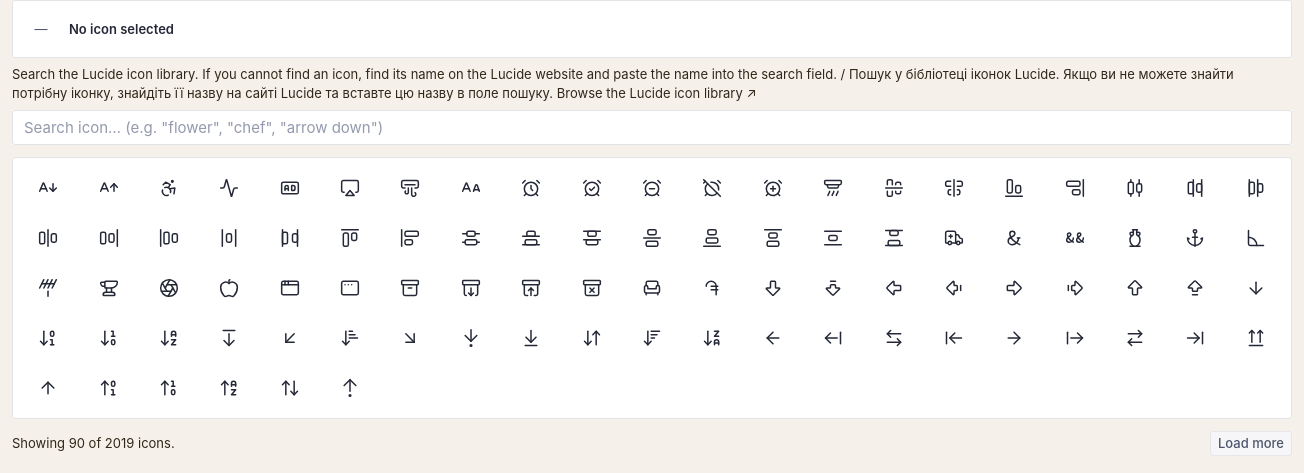
Test case: IconPickerInput — the complete catalog is reachable, not just the first page › Load more disappears once every match is already visible
Type "chef" into the field with placeholder "Search icon… (e.g. \"flower\", \"chef\", \"arrow down\")" at (652, 128), box [12,110,1292,145]
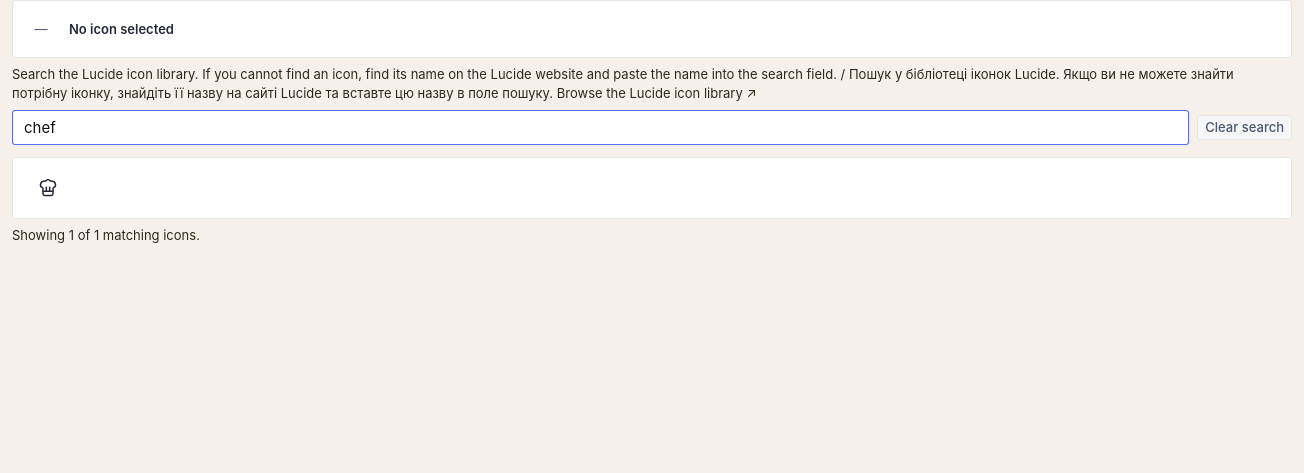
Check: the button "Load more" is gone
